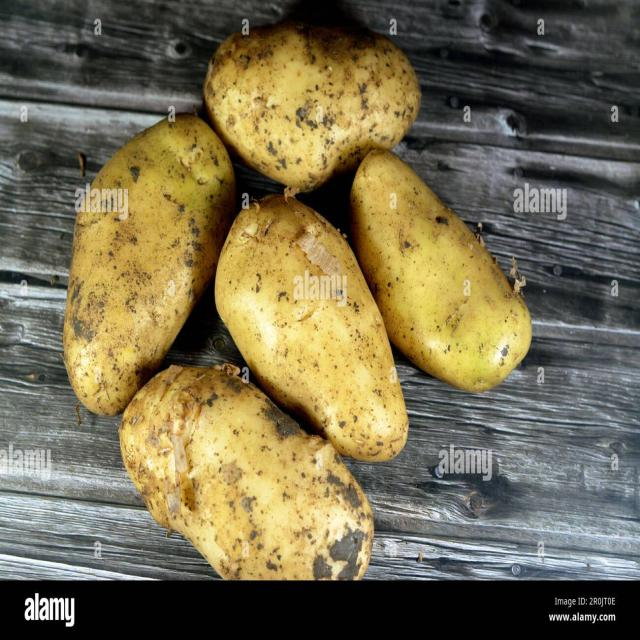Potato: (70, 94, 240, 422), (214, 197, 415, 462), (350, 141, 519, 406), (205, 19, 409, 189)
